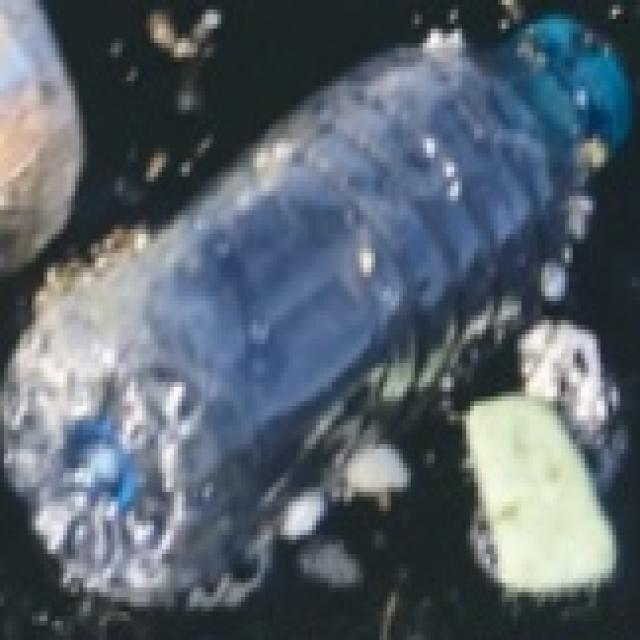plastic bottle: (16, 0, 639, 587)
